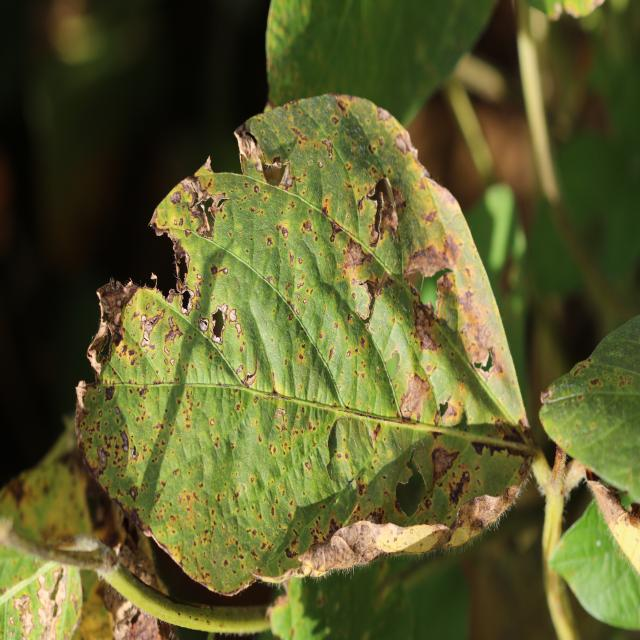Bacterial_Blight: (454, 285, 509, 387), (448, 485, 525, 549), (31, 566, 73, 640), (341, 321, 380, 400), (397, 360, 432, 435), (300, 531, 361, 574), (111, 595, 165, 639), (469, 430, 536, 461), (393, 524, 452, 556), (409, 239, 450, 279), (412, 299, 443, 348), (358, 276, 387, 322), (74, 386, 90, 459), (13, 592, 36, 638), (561, 457, 588, 495), (178, 175, 208, 207), (139, 310, 164, 348), (208, 303, 230, 345), (341, 237, 369, 269), (122, 506, 148, 531), (176, 284, 195, 318), (278, 161, 296, 191), (243, 358, 260, 388), (365, 506, 386, 524), (393, 133, 410, 154), (148, 206, 162, 231), (102, 546, 117, 569), (97, 444, 108, 472), (420, 209, 438, 225), (321, 137, 334, 158), (540, 385, 555, 403), (199, 154, 213, 173), (119, 429, 130, 453), (274, 409, 286, 427), (285, 544, 299, 559), (275, 224, 288, 239), (104, 385, 116, 401), (170, 190, 182, 205), (337, 99, 348, 112), (589, 377, 602, 387), (303, 220, 312, 232), (628, 502, 635, 515), (150, 272, 158, 283), (210, 265, 218, 275), (8, 615, 15, 626), (266, 237, 273, 246), (304, 461, 311, 470), (178, 218, 184, 227), (115, 406, 121, 415), (253, 185, 259, 193), (223, 267, 229, 274), (210, 419, 215, 427), (318, 161, 323, 168)
Soybean: (75, 94, 537, 595)
